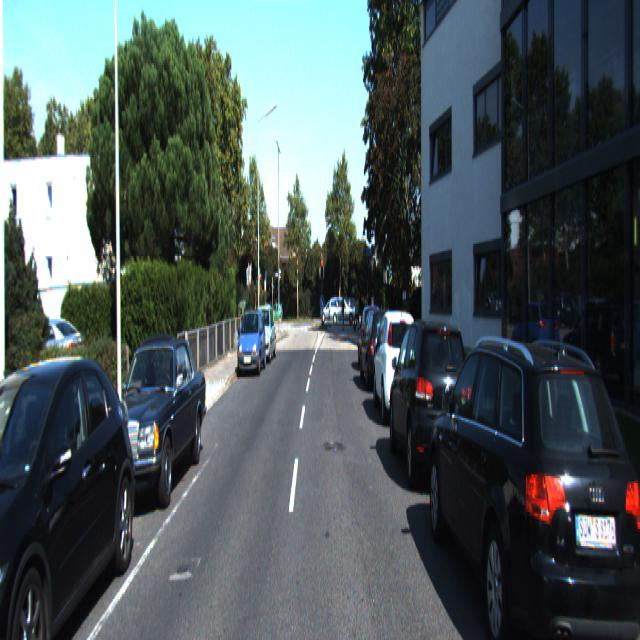Car: (426, 319, 640, 638), (0, 346, 140, 638), (95, 329, 209, 516), (388, 311, 477, 501), (372, 306, 423, 428), (359, 306, 398, 394), (236, 306, 266, 376), (357, 303, 385, 373), (250, 304, 276, 365), (636, 376, 639, 638)
